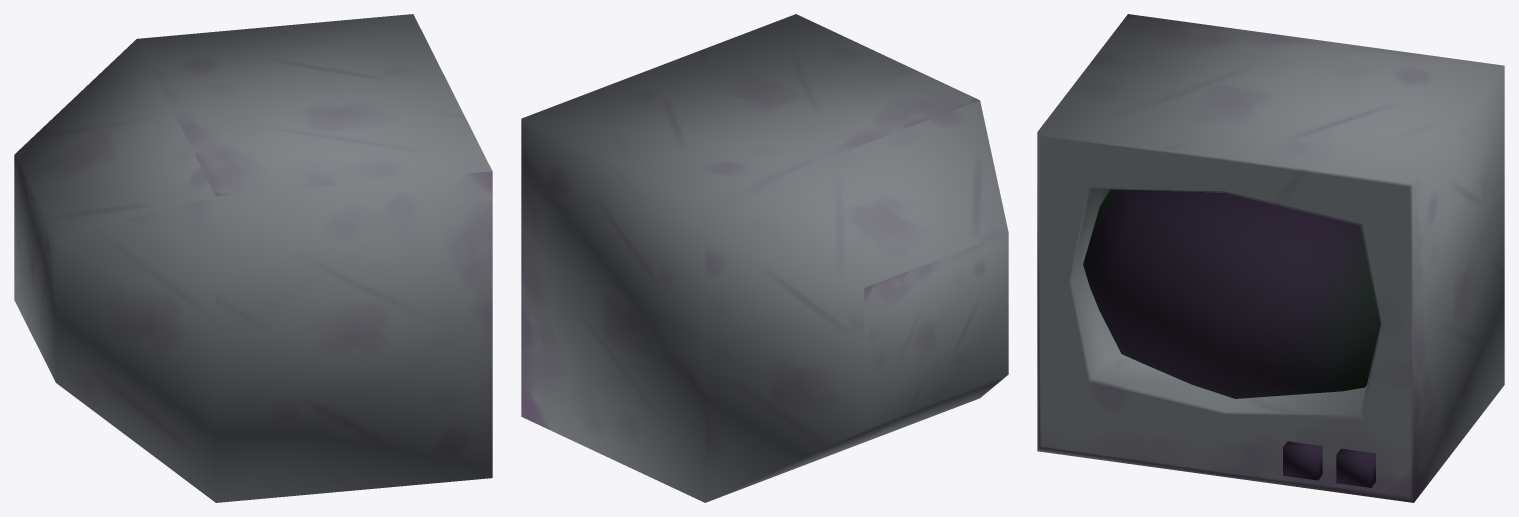
3 renders of one model, left to right at view 1: azimuth 30°, elevation 25°; view 2: azimuth 150°, elevation 25°; view 3: azimuth 270°, elevation 25°, orthographic. The views are drawn at different scales.
Parts seen in each view (by area): view 1: TV; view 2: TV; view 3: TV.
Boxes of the visible parts, bbox=[...] form: TV: bbox=[14, 14, 492, 502]; TV: bbox=[521, 14, 1008, 502]; TV: bbox=[1037, 14, 1504, 502].
Size of the model in its own units: 102 by 92.04 by 69.3.
